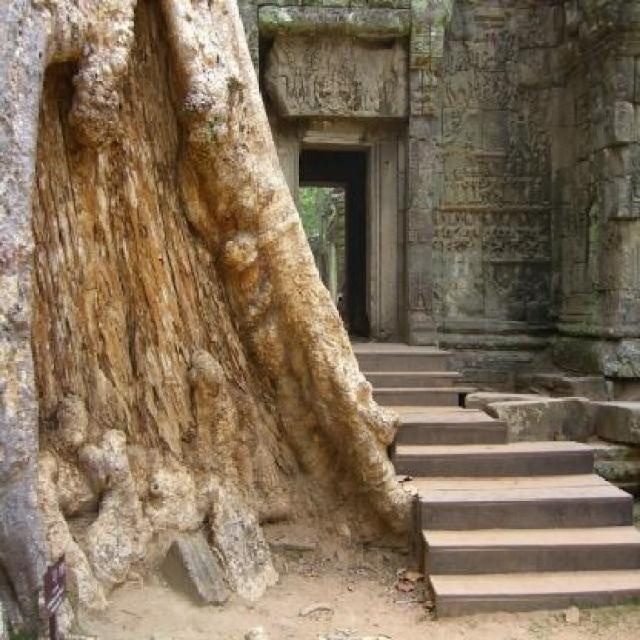stair: (349, 338, 640, 617)
